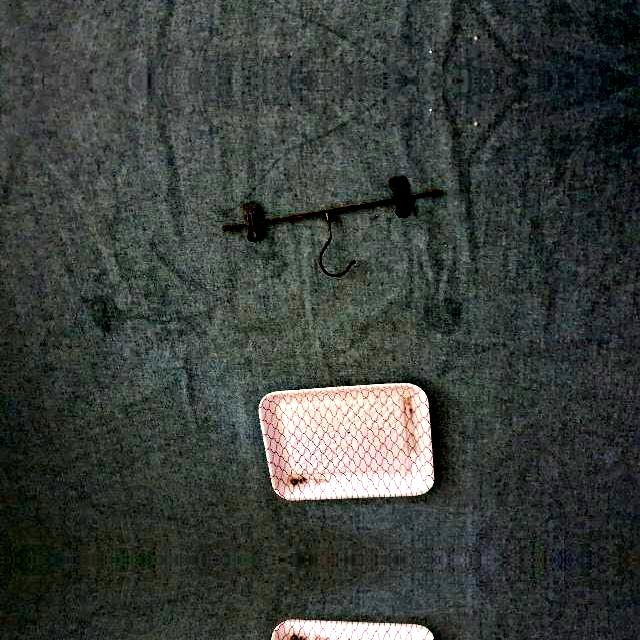Styrofoam: (260, 382, 434, 502), (259, 383, 435, 501), (260, 616, 434, 640)
